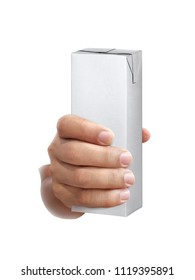carton: (64, 25, 163, 233)
